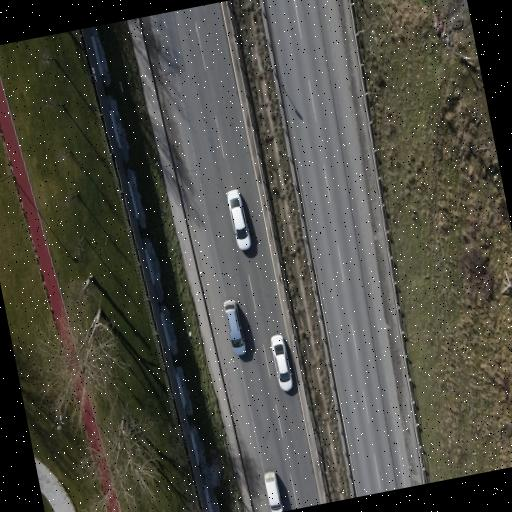harvester: (226, 189, 250, 249), (270, 334, 292, 390), (223, 300, 244, 355), (264, 471, 282, 511)
